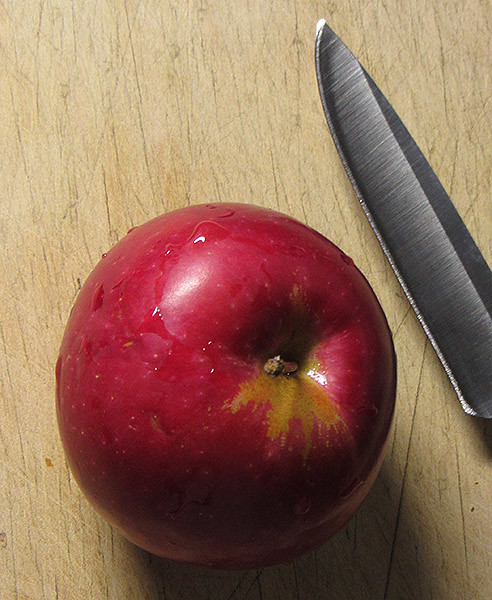apple: (49, 198, 410, 575)
